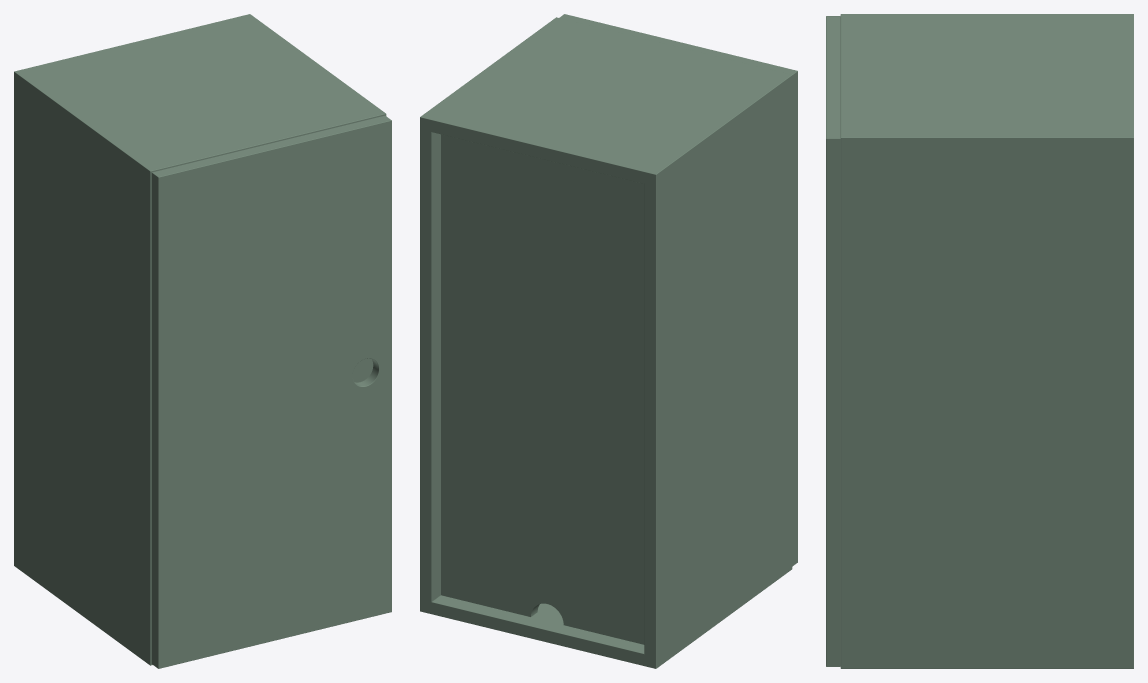
File: MOD_1X2_D_B_DER_AP_VA.glb
3 views of the same model, side by side, from view 1: azimuth 30°, elevation 25°; view 2: azimuth 150°, elevation 25°; view 3: azimuth 270°, elevation 25° (orthographic). The views are drawn at different scales.
Size of the model in its own units: 360 by 720 by 378.
